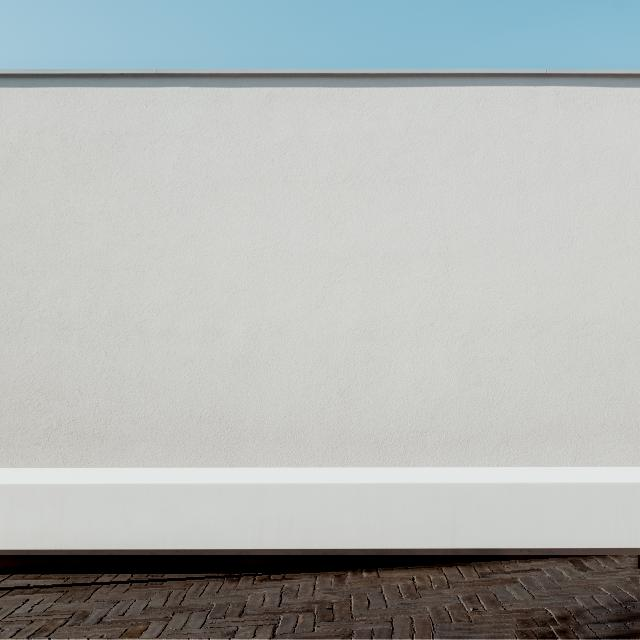floor: (0, 556, 640, 639)
